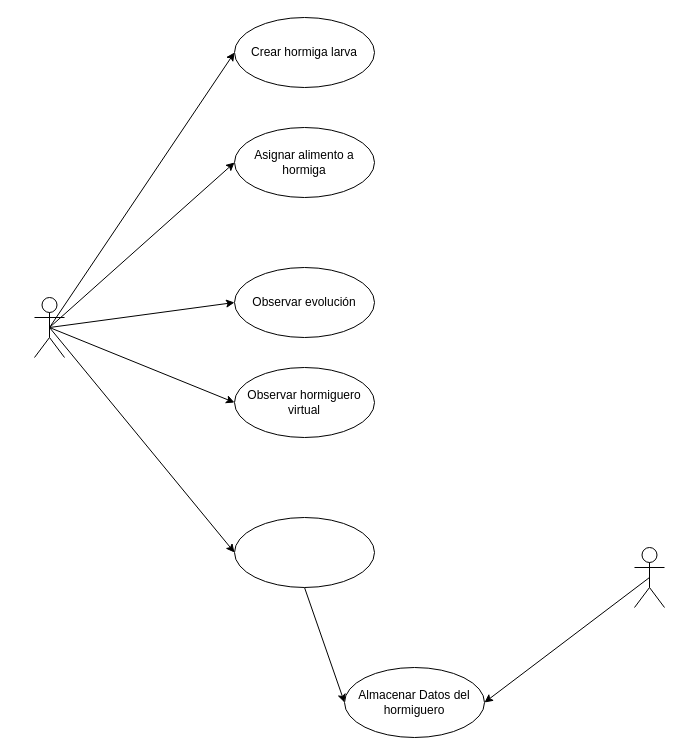
This 688x755 diagram has some shape labels left out. The centre of each missing label's shape, as x and y in pixels:
"Eliminar/ Guardar creación de hormiga" belongs at point (304, 552).
"Entomólogo" belongs at point (49, 327).
"Sistema" belongs at point (649, 577).
